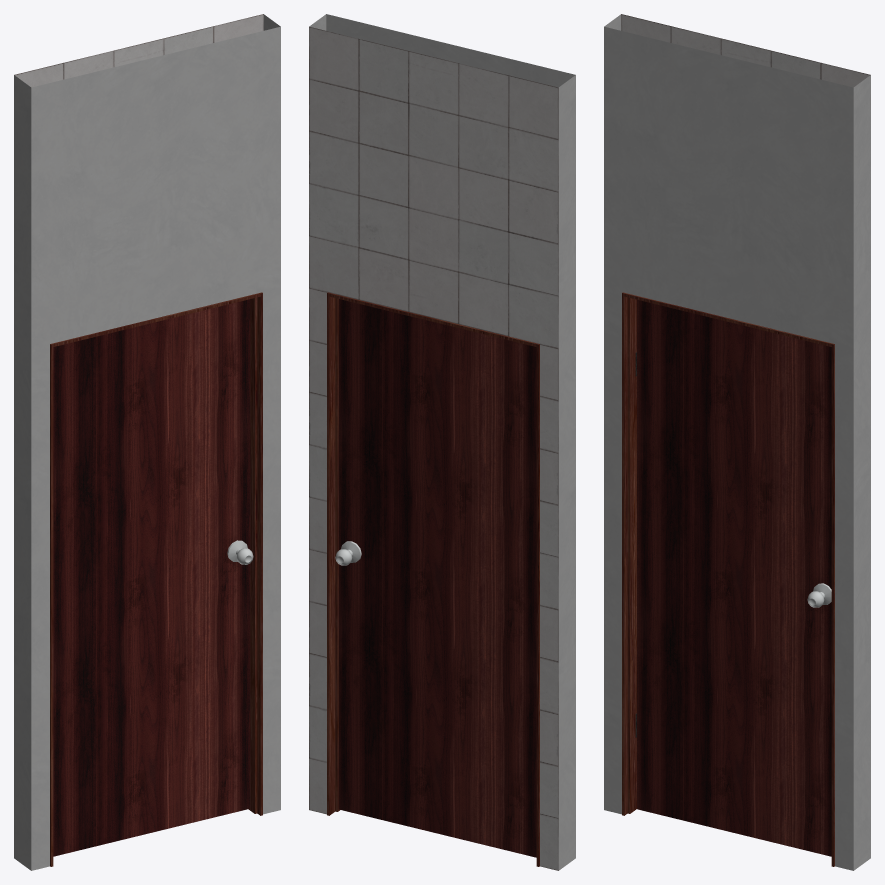
File: iside_door_right.FBX
3 renders of one model, left to right at view 1: azimuth 30°, elevation 25°; view 2: azimuth 150°, elevation 25°; view 3: azimuth 330°, elevation 25°, orthographic.
Visible parts, largest first — view 1: door_frame, door; view 2: door_frame, door; view 3: door_frame, door.
Part boxes in pixels (<box>): door_frame: <box>14,14,280,870</box>; door: <box>53,299,253,856</box>; door_frame: <box>309,14,575,870</box>; door: <box>335,299,536,857</box>; door_frame: <box>604,14,870,870</box>; door: <box>637,299,831,856</box>.
Size of the model in its own units: 1 by 0.1877 by 3.
Materials: 2 (2 with a texture image).
